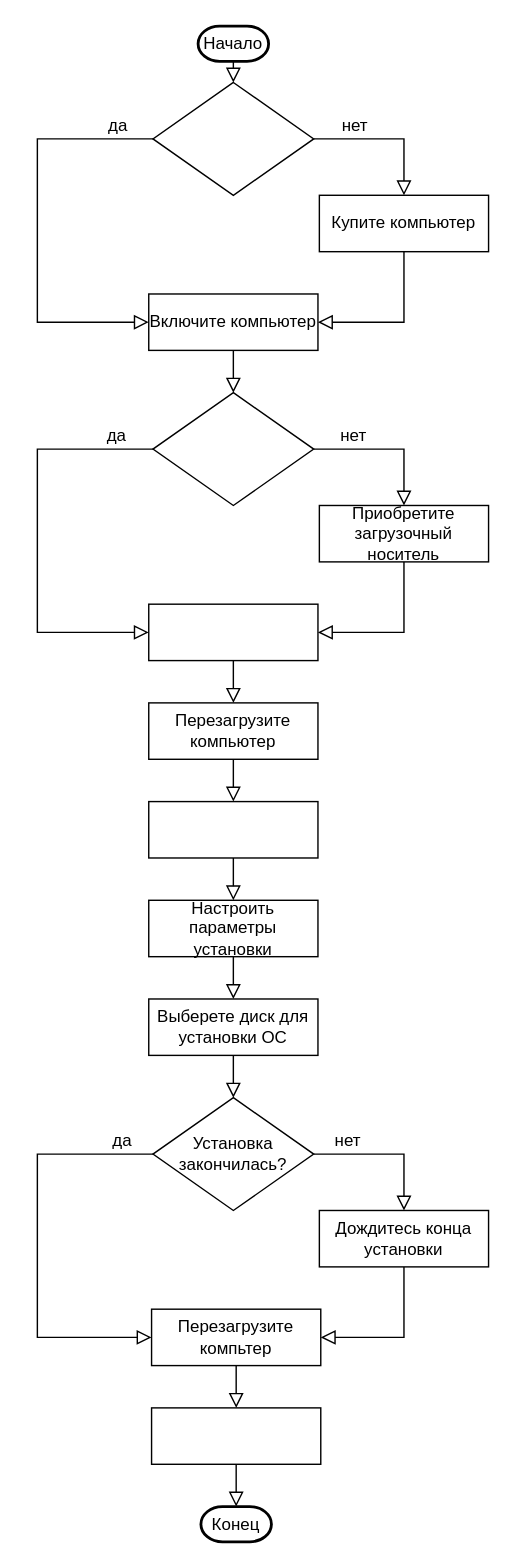
This 513x1567 diagram has some shape labels left out. The shapes that lost their labels are listed below. From the top down, each one's box as (x1, y1, x2, y2) in pixels, then its label:
(152, 81, 314, 195): У вас есть компьютер?
(152, 391, 314, 505): У вас есть загрузочный носитель?
(147, 603, 318, 661): Вставьте носитель в компьютер
(147, 800, 318, 858): Загрузите ОС с носителя
(150, 1406, 321, 1464): Проверьте работоспособность ОС
